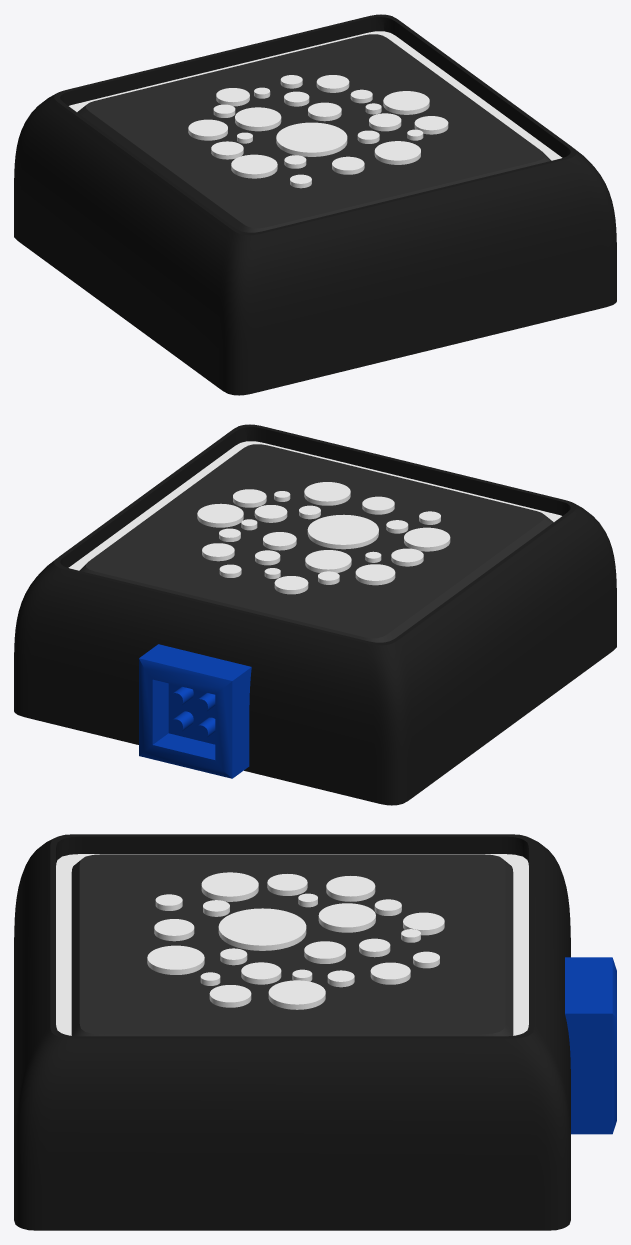
Rendered from DensitySensor.gltf.
3 renders of one model, top to bottom at view 1: azimuth 30°, elevation 25°; view 2: azimuth 150°, elevation 25°; view 3: azimuth 270°, elevation 25°, orthographic. The views are drawn at different scales.
Parts seen in each view (by area): view 1: base; view 2: base; view 3: base.
Part boxes in pixels (x1,y1,x2,y2): base: [14, 14, 616, 395]; base: [14, 424, 616, 805]; base: [14, 834, 616, 1230].
Bounding box in the file's own units: 0.25 × 0.0875 × 0.2706.
